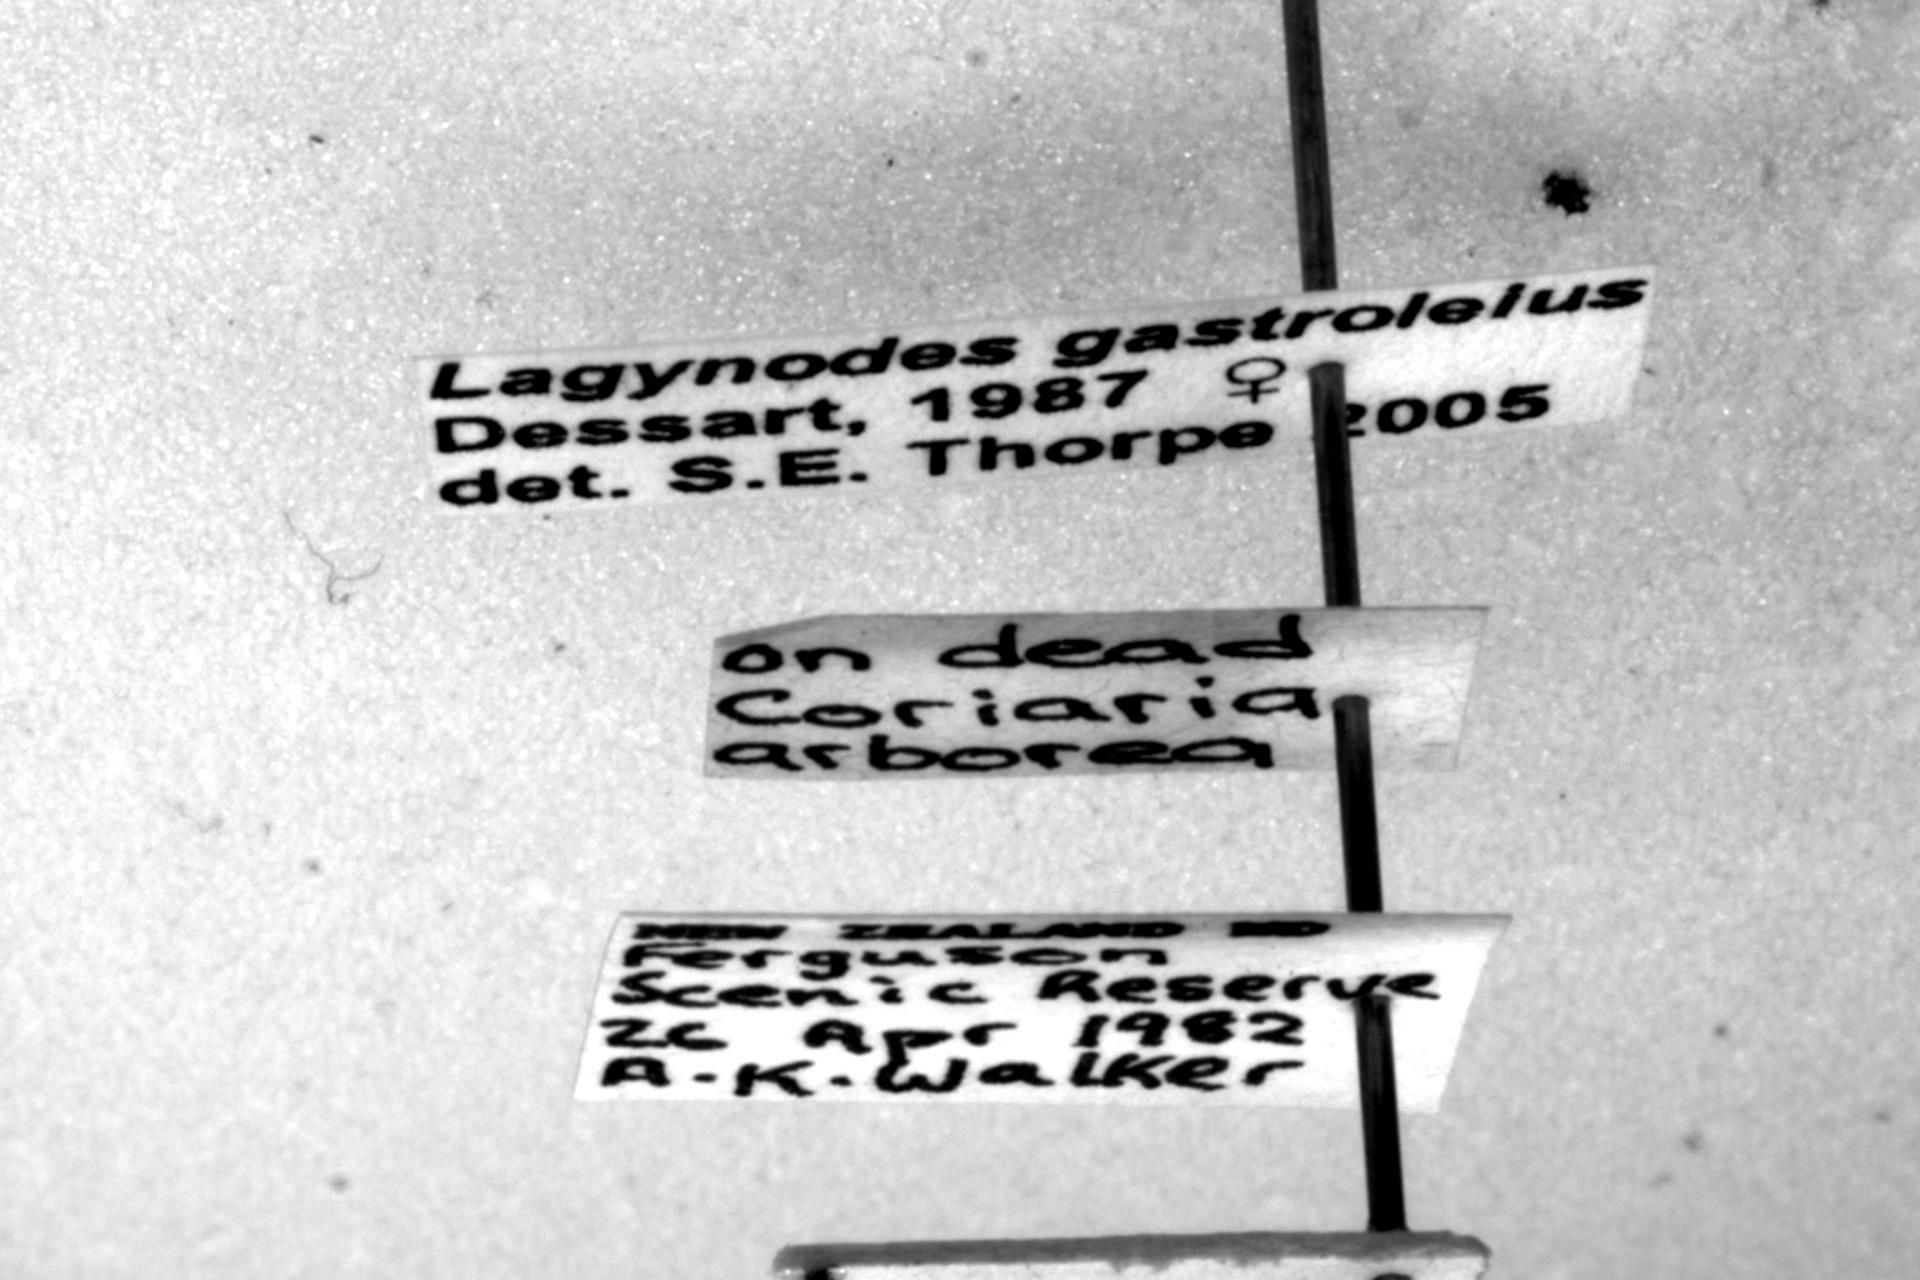hand_label: (705, 608, 1485, 780)
mixed_label: (574, 915, 1508, 1114)
typed_label: (420, 266, 1654, 510)
